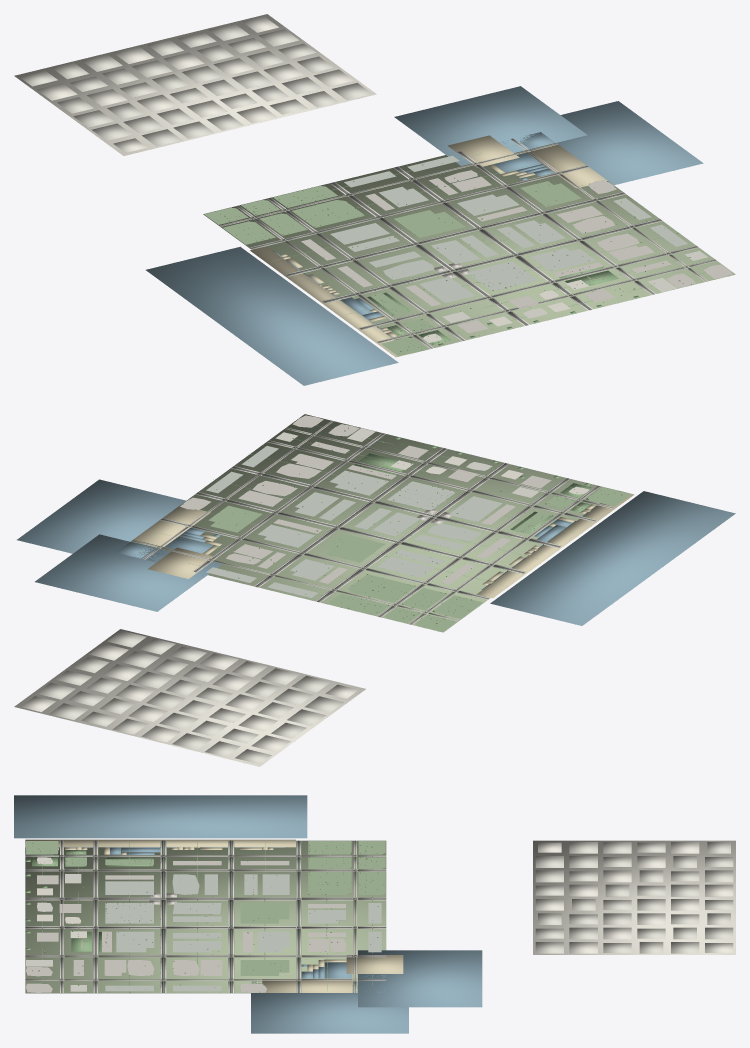
Rendered from agentspace-world.glb.
3 views of the same model, one above another, from view 1: azimuth 30°, elevation 25°; view 2: azimuth 150°, elevation 25°; view 3: azimuth 270°, elevation 25° (orthographic). The views are drawn at different scales.
Parts seen in each view (by area): view 1: TerrainCampus, OceanWest, LandPreviewBase, OceanMarsh, OceanHarbour, CoastWest, Water, CoastHarbour, land-campus-1, park-southpark-5, CoastMarsh, park-parklands-3 (+12 smaller); view 2: TerrainCampus, OceanWest, LandPreviewBase, OceanMarsh, OceanHarbour, CoastWest, Water, CoastHarbour, land-campus-1, CoastMarsh, park-southpark-5, park-parklands-3 (+12 smaller); view 3: TerrainCampus, OceanWest, LandPreviewBase, OceanMarsh, OceanHarbour, CoastWest, CoastHarbour, Water, land-campus-1, CoastMarsh, park-parklands-3, park-southpark-5 (+15 smaller).
Boxes of the visible parts, box(x1,y1,x2,y2) form: TerrainCampus: box(203, 143, 735, 353); OceanWest: box(146, 246, 398, 385); LandPreviewBase: box(14, 14, 376, 155); OceanMarsh: box(394, 86, 587, 165); OceanHarbour: box(556, 101, 703, 190); CoastWest: box(250, 246, 412, 357); Water: box(273, 132, 555, 337); CoastHarbour: box(528, 145, 607, 188); land-campus-1: box(467, 261, 538, 291); park-southpark-5: box(292, 200, 364, 227); CoastMarsh: box(447, 135, 519, 167); park-parklands-3: box(394, 210, 464, 237); TerrainCampus: box(130, 414, 617, 632); OceanWest: box(490, 491, 735, 625); LandPreviewBase: box(14, 629, 365, 766); OceanMarsh: box(35, 534, 221, 611); OceanHarbour: box(17, 479, 185, 553); CoastWest: box(476, 490, 634, 598); Water: box(116, 505, 597, 589); CoastHarbour: box(133, 505, 210, 546); land-campus-1: box(387, 481, 455, 510); CoastMarsh: box(148, 547, 217, 578); park-southpark-5: box(348, 574, 416, 602); park-parklands-3: box(321, 533, 384, 562); TerrainCampus: box(25, 840, 386, 993); OceanWest: box(14, 795, 307, 838); LandPreviewBase: box(533, 840, 735, 954); OceanMarsh: box(358, 950, 482, 1007); OceanHarbour: box(251, 981, 408, 1033); CoastWest: box(25, 839, 295, 847); CoastHarbour: box(262, 979, 352, 992); Water: box(65, 847, 385, 992); land-campus-1: box(105, 903, 153, 923); CoastMarsh: box(346, 955, 403, 973); park-parklands-3: box(240, 903, 289, 923); park-southpark-5: box(308, 872, 351, 894).
Size of the model in its own units: 3200 by 10.47 by 4096.
